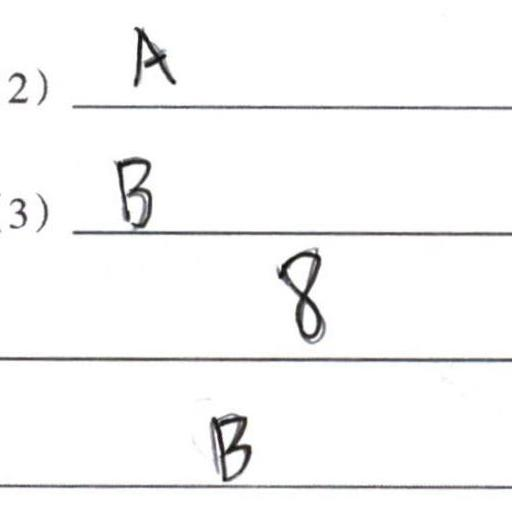ans: (267, 240, 329, 343), (107, 146, 156, 229), (206, 410, 257, 484), (130, 27, 177, 90)
